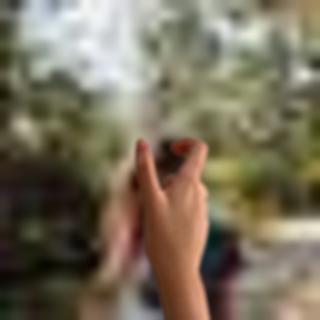Irritated: (126, 129, 232, 310)
